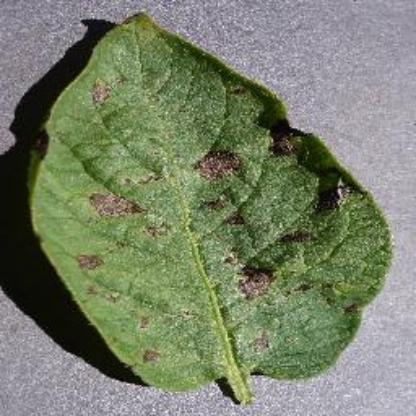Early-Blight: (27, 9, 393, 407)
